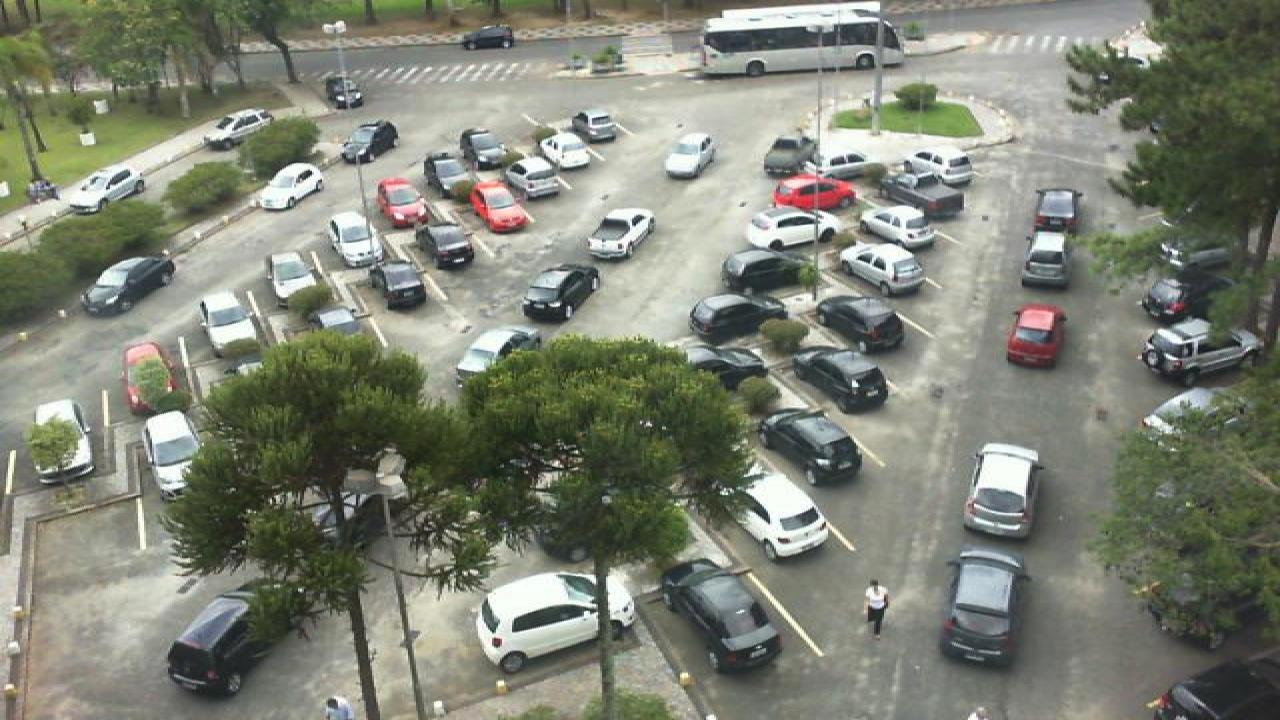Car: (474, 569, 636, 674), (656, 558, 782, 675), (164, 589, 276, 698), (938, 549, 1032, 666), (724, 469, 830, 560), (1140, 316, 1264, 388), (756, 406, 864, 486), (960, 441, 1042, 540), (22, 397, 96, 487), (792, 349, 890, 414), (80, 254, 178, 316), (138, 408, 202, 502), (688, 292, 792, 346), (454, 325, 542, 387), (818, 292, 906, 350), (838, 242, 928, 298), (718, 245, 814, 297), (522, 261, 600, 324), (678, 342, 766, 395), (120, 340, 178, 419), (740, 208, 840, 252), (1004, 300, 1066, 370), (1136, 274, 1214, 326), (252, 160, 326, 214), (196, 288, 260, 350), (882, 175, 966, 221), (1136, 387, 1220, 433), (586, 206, 656, 260), (858, 205, 938, 251), (1150, 238, 1230, 284), (768, 172, 858, 212), (410, 215, 476, 268), (364, 256, 428, 310), (326, 213, 386, 269), (470, 180, 530, 235), (260, 246, 320, 300), (502, 156, 572, 202), (902, 146, 976, 188), (1018, 231, 1070, 288), (374, 176, 430, 228), (420, 151, 478, 201), (338, 120, 400, 166), (808, 148, 890, 182), (662, 132, 716, 180), (532, 132, 596, 172), (1030, 187, 1084, 234), (456, 126, 504, 173), (762, 132, 812, 176), (568, 110, 624, 144)
